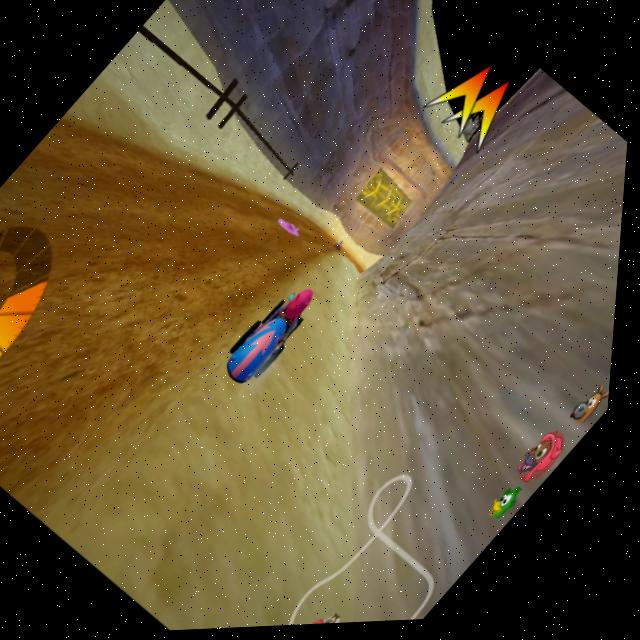enemy_kart: (334, 239, 351, 257)
obstacle: (274, 209, 317, 248)
player_kart: (217, 278, 333, 399)
track: (62, 136, 310, 372)
